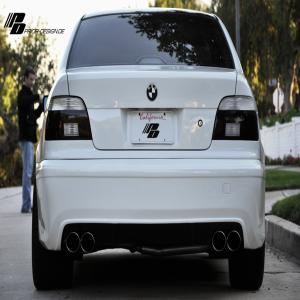Vehicle-registration-plate: (132, 112, 175, 145)
